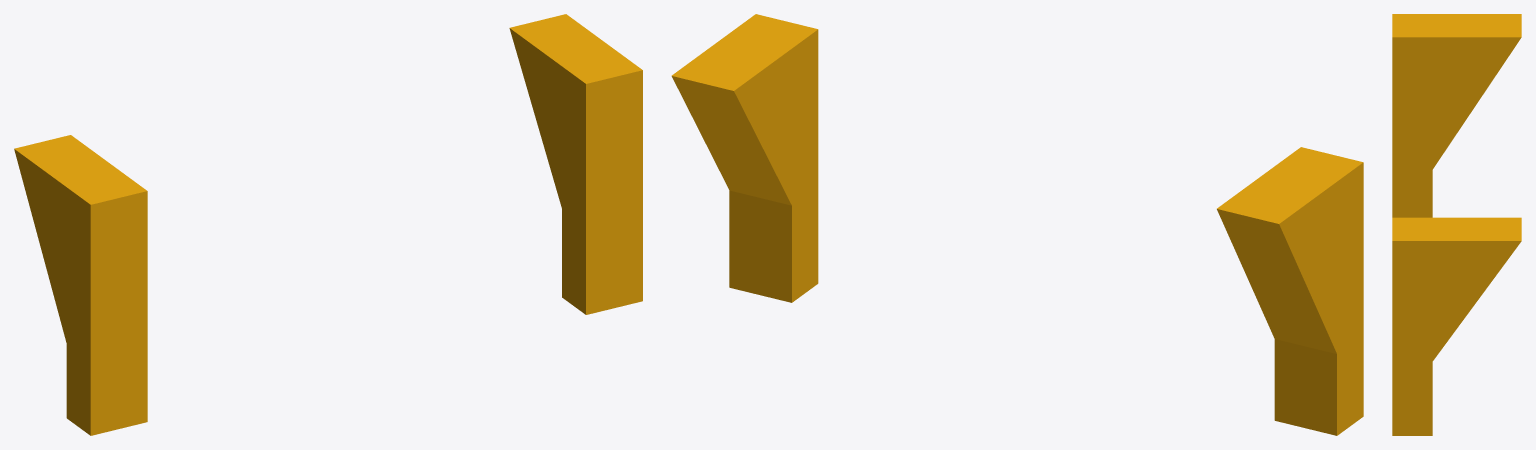
File: support1.glb
3 renders of one model, left to right at view 1: azimuth 30°, elevation 25°; view 2: azimuth 150°, elevation 25°; view 3: azimuth 270°, elevation 25°, orthographic. The views are drawn at different scales.
Parts seen in each view (by area): view 1: Cube.034; view 2: Cube.034; view 3: Cube.034.
Part boxes in pixels (x1,y1,x2,y2): Cube.034: [14, 14, 642, 435]; Cube.034: [671, 14, 1363, 435]; Cube.034: [1392, 14, 1521, 435].
Bounding box in the file's own units: 19.26 × 7.7 × 4.64.
